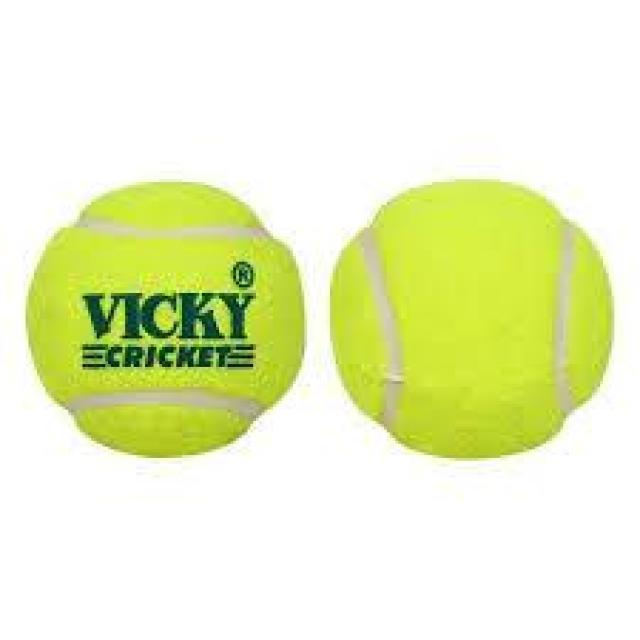ball: (324, 172, 619, 462)
